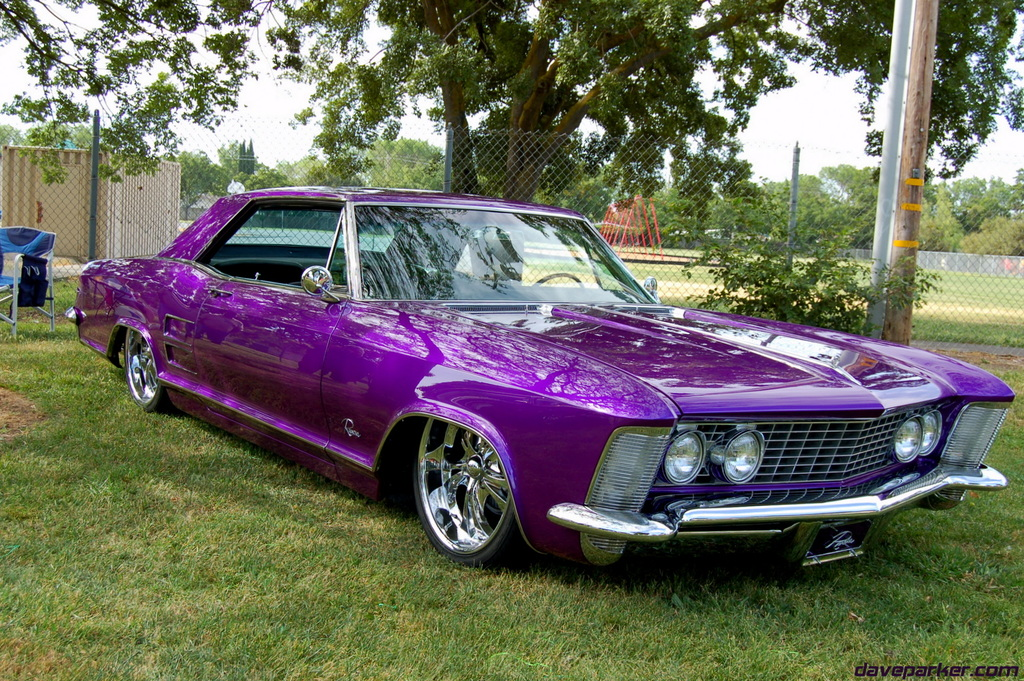Car: (63, 189, 1018, 566)
